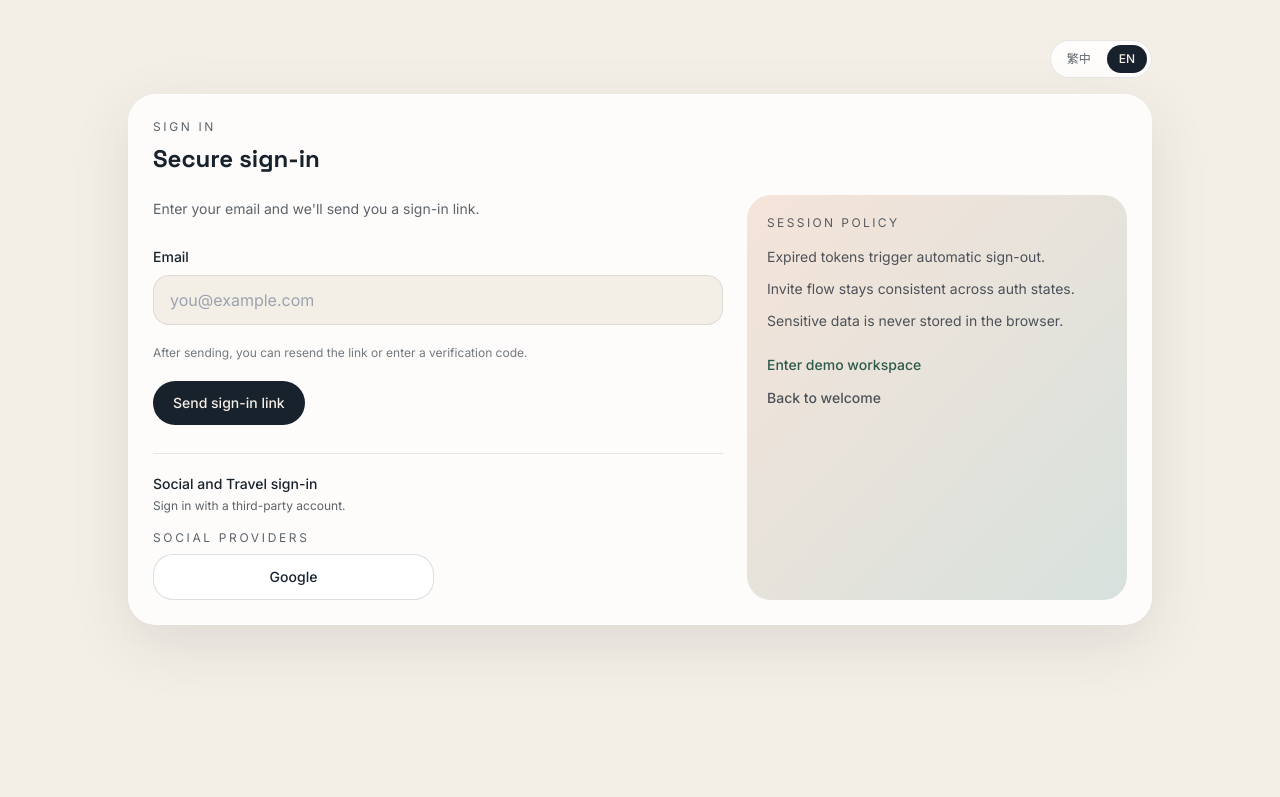
Test: AuthPage › switches to the waiting view after requesting a magic link
Type "demo@example.com" into the field labelled "Email".
click(438, 300); type("demo@example.com")  # box [153, 275, 723, 325]
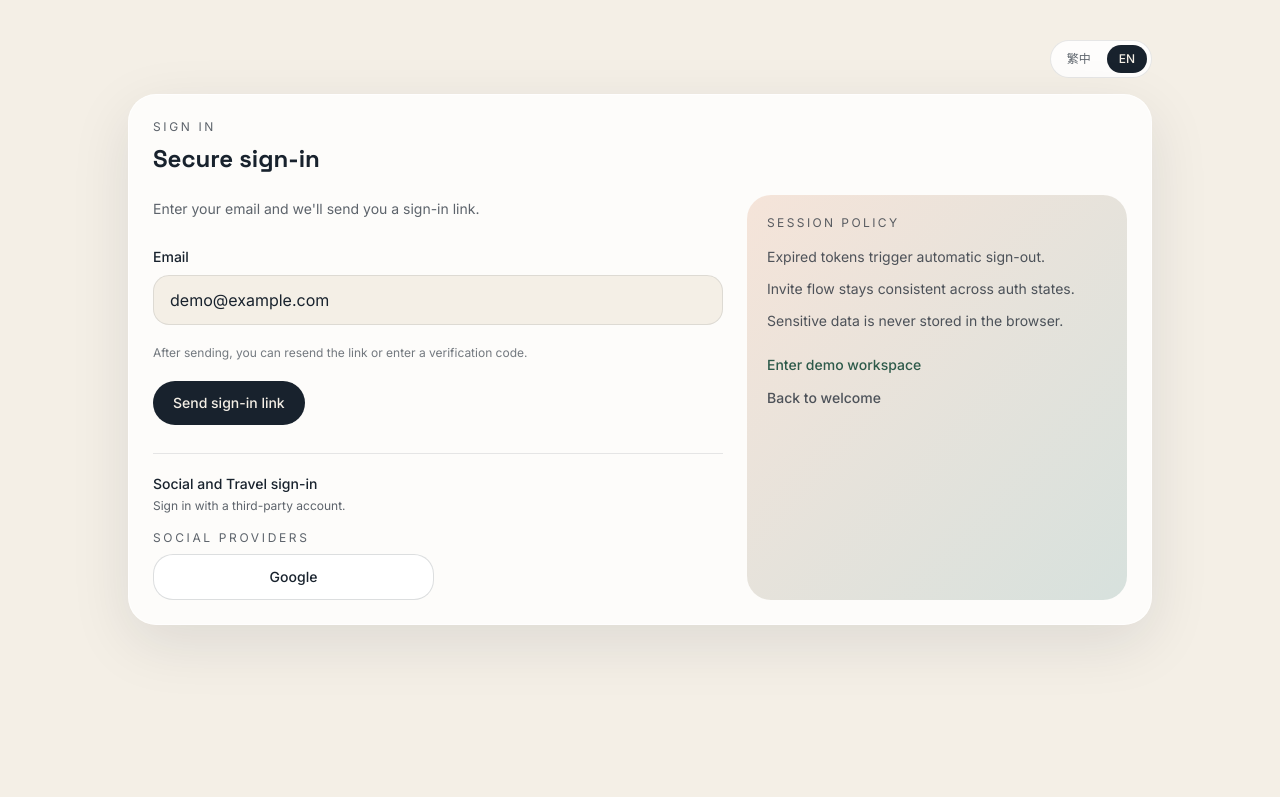
Click the button "Send sign-in link".
click(229, 403)  # box [153, 381, 305, 425]
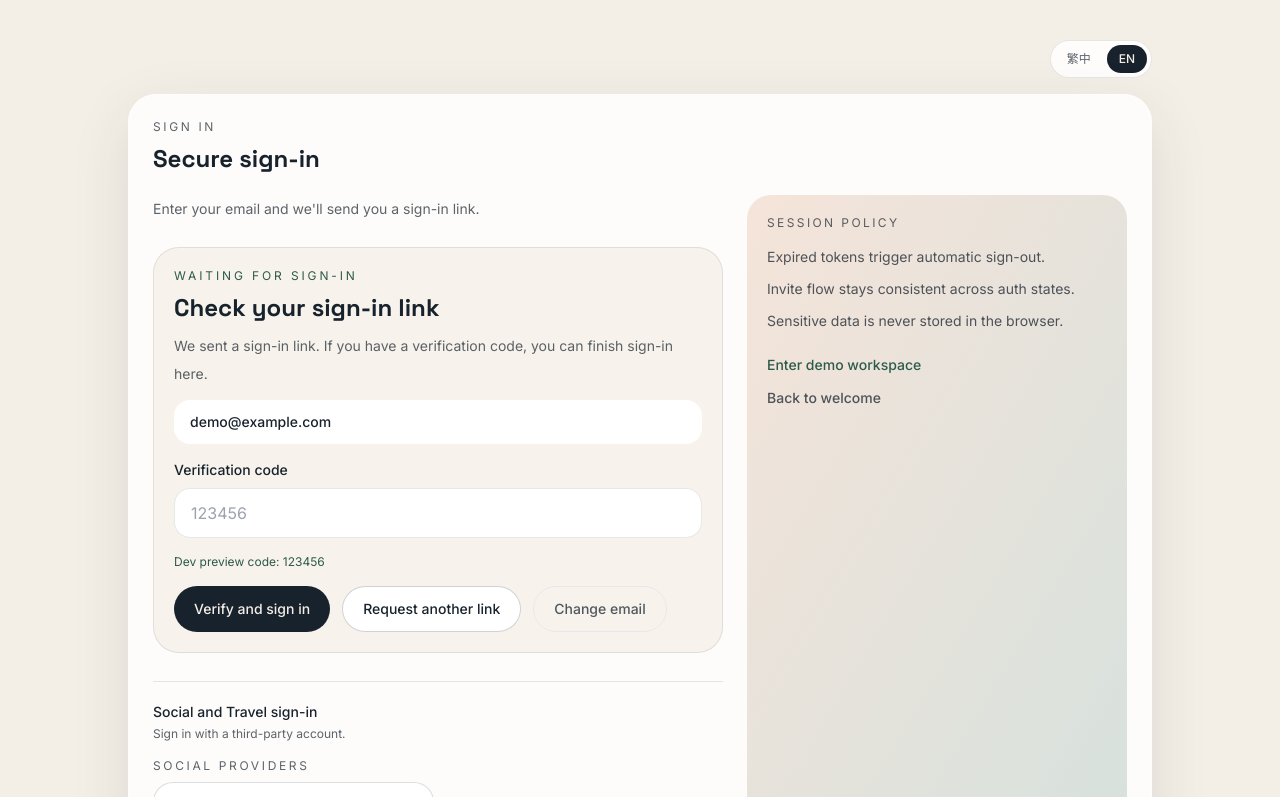
expect the heading "Check your sign-in link" is shown: met, box [174, 292, 439, 323]
expect the text "demo@example.com" is shown: met, box [174, 400, 702, 444]
expect the button "Request another link" is shown: met, box [342, 586, 521, 632]
